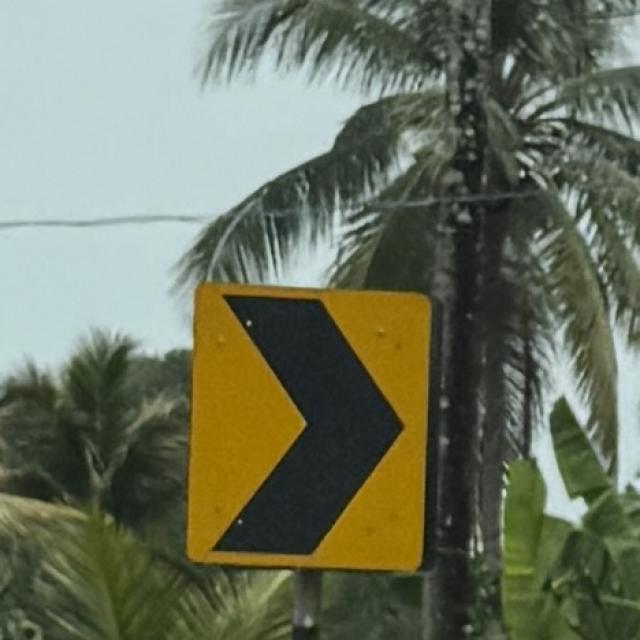TURN_RIGHT: (184, 272, 437, 574)
